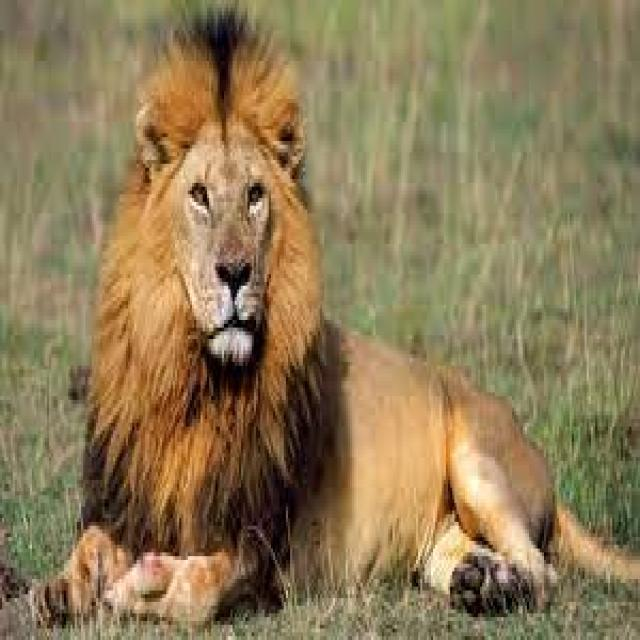Carnivorous: (23, 11, 640, 629)
